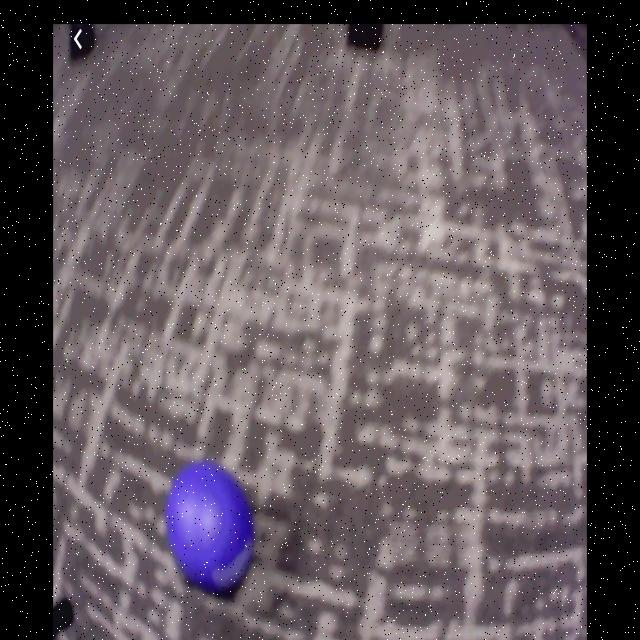ball: (168, 466, 253, 587)
